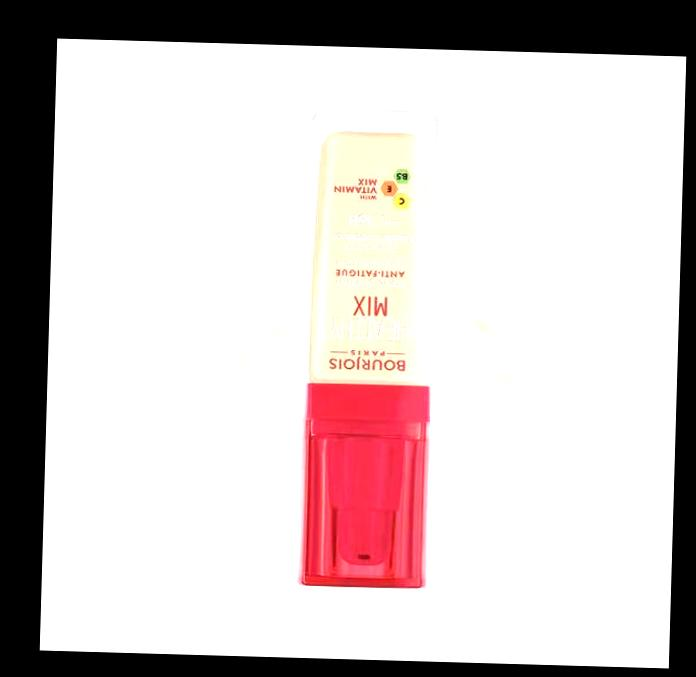cosmetic: (293, 98, 445, 588)
